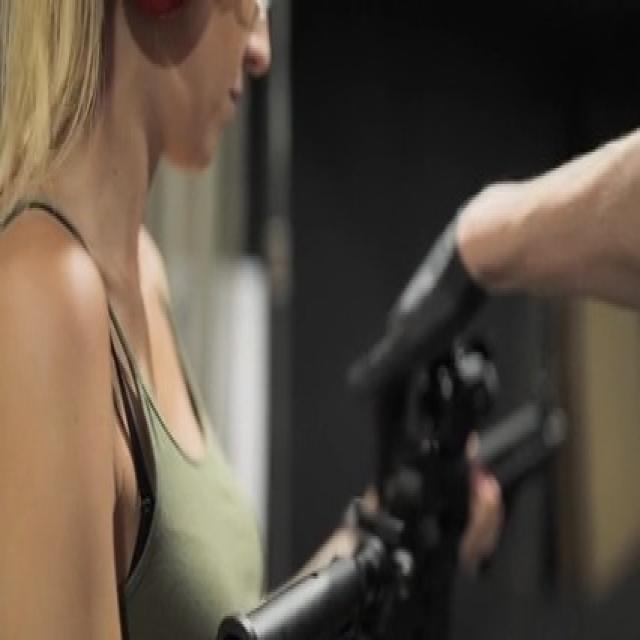Gun_Holder: (200, 334, 606, 638)
Person: (1, 0, 310, 640)
